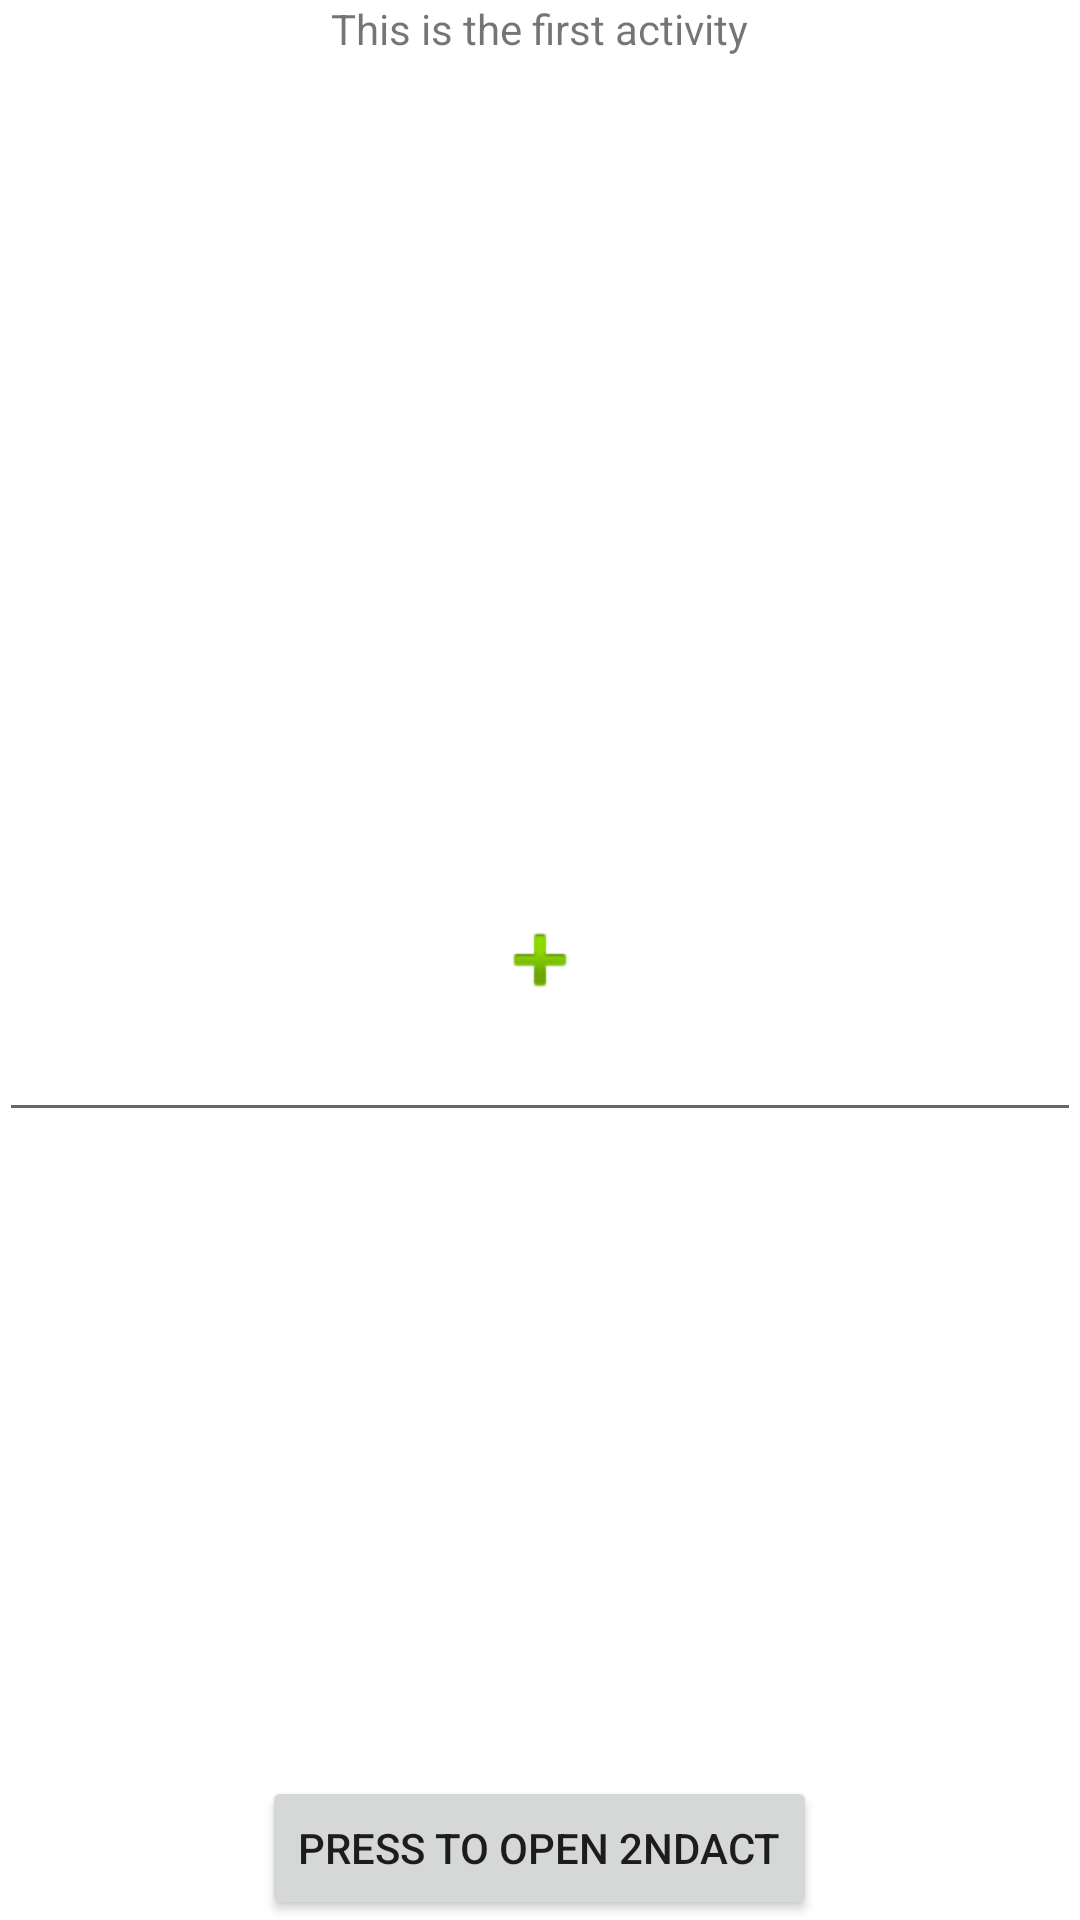

Locate icon controls on the screen. Image size 1080×1920, boxes as [x1=x1, y1=y1, x2=x2, y2=y2].
add: [x1=513, y1=933, x2=567, y2=987]
